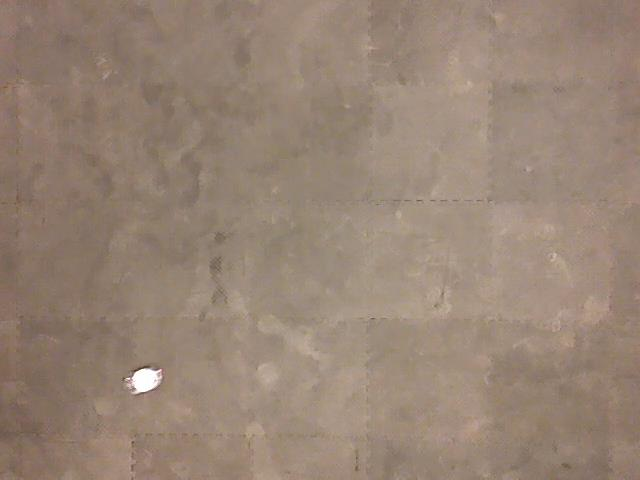Agent: (122, 363, 166, 397)
